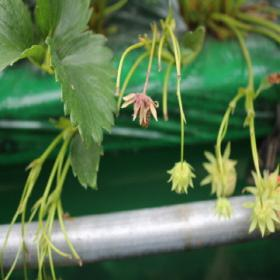Gray Mold: (120, 90, 160, 129)
